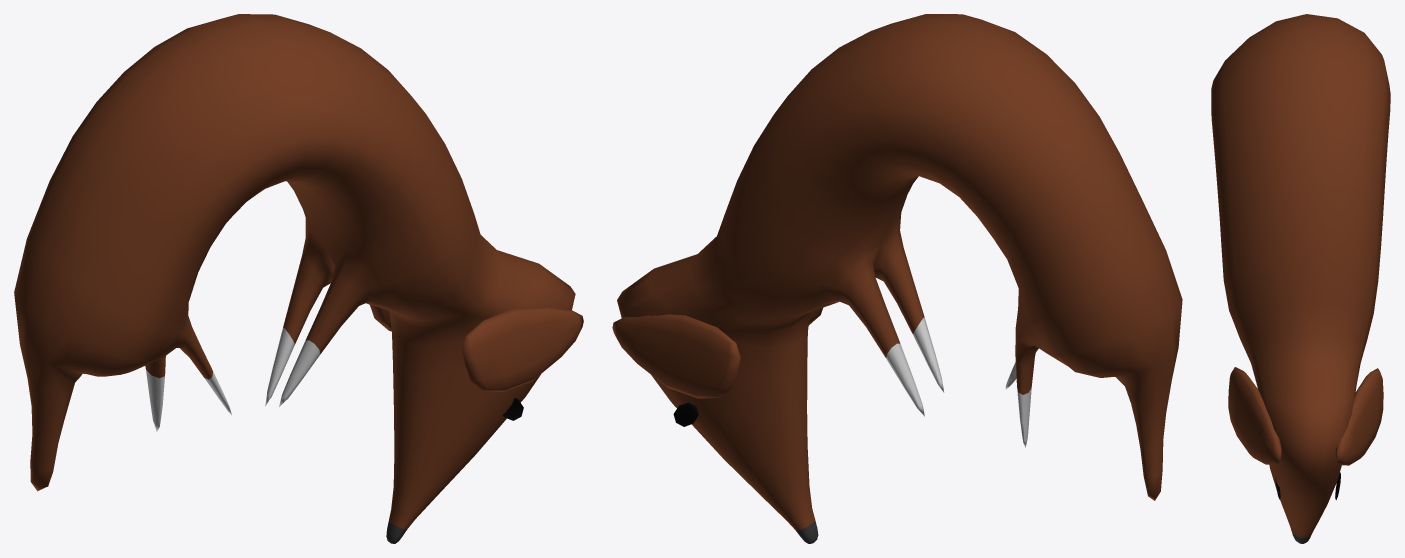
File: ween_medium_airjail.fbx
The picture shows the model from 3 angles, left to right: view 1: azimuth 30°, elevation 25°; view 2: azimuth 150°, elevation 25°; view 3: azimuth 270°, elevation 25°; orthographic projection. The views are drawn at different scales.
Parts seen in each view (by area): view 1: ween_medium_airjail; view 2: ween_medium_airjail; view 3: ween_medium_airjail.
Part boxes in pixels (x1=…): ween_medium_airjail: x1=14, y1=14, x2=583, y2=543; ween_medium_airjail: x1=612, y1=14, x2=1182, y2=543; ween_medium_airjail: x1=1211, y1=14, x2=1390, y2=543.
Bounding box in the file's own units: 90.2 × 262 × 253.
